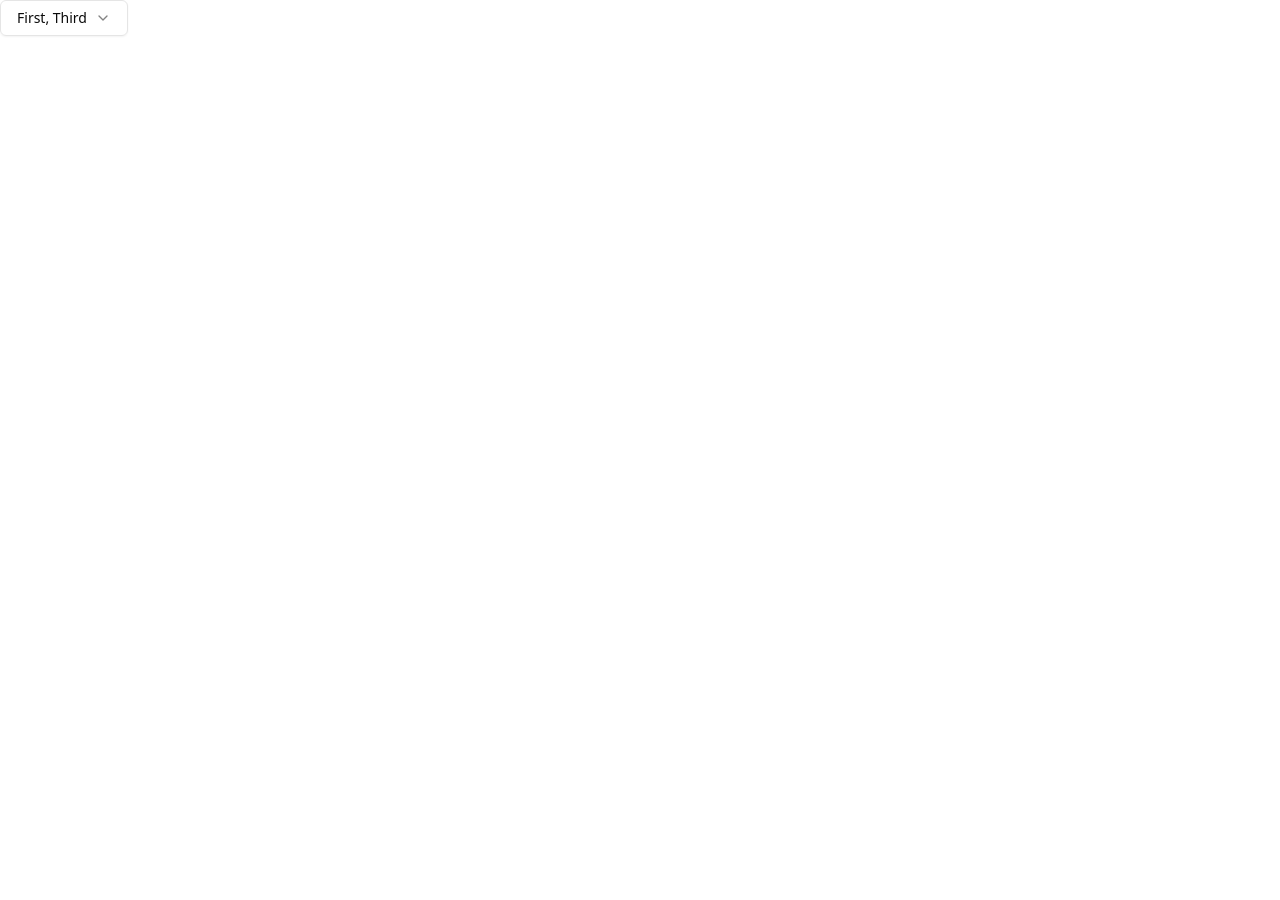
Test: MultiSelect › shows checkmarks for selected items
Click the dropdown: click(64, 18) [0,0,128,36]
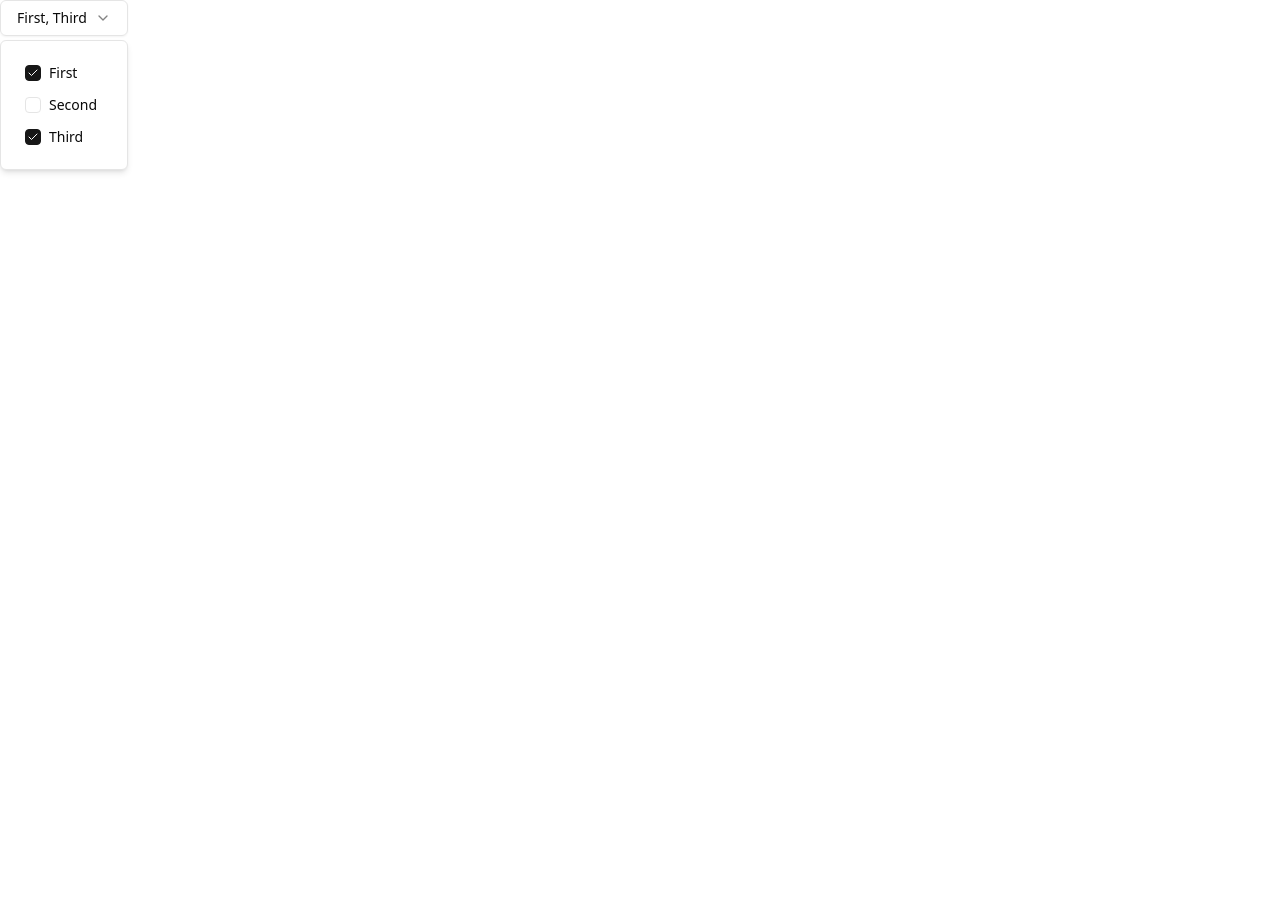
Expected: the number of icons with class "lucide-check" is 2, [27,67,39,79]; [27,131,39,143]
